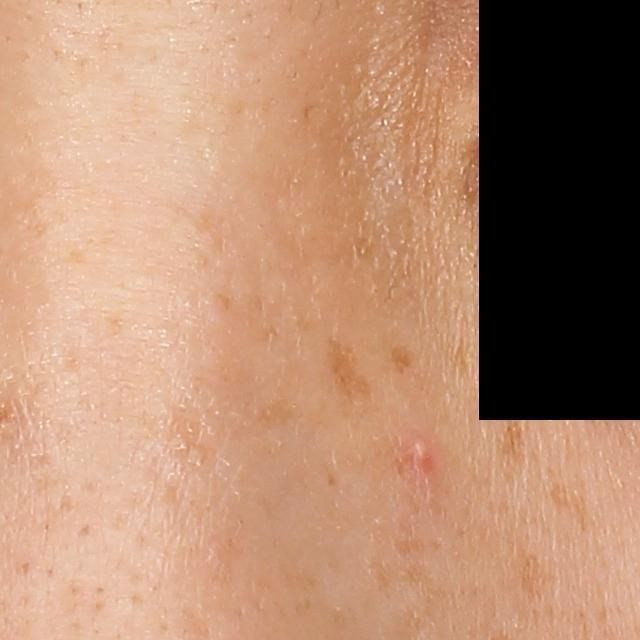melasma: (392, 560, 466, 640), (327, 332, 376, 409), (543, 466, 595, 537), (513, 551, 556, 607), (499, 396, 531, 470), (386, 341, 419, 378)
pustule: (397, 431, 438, 481)
